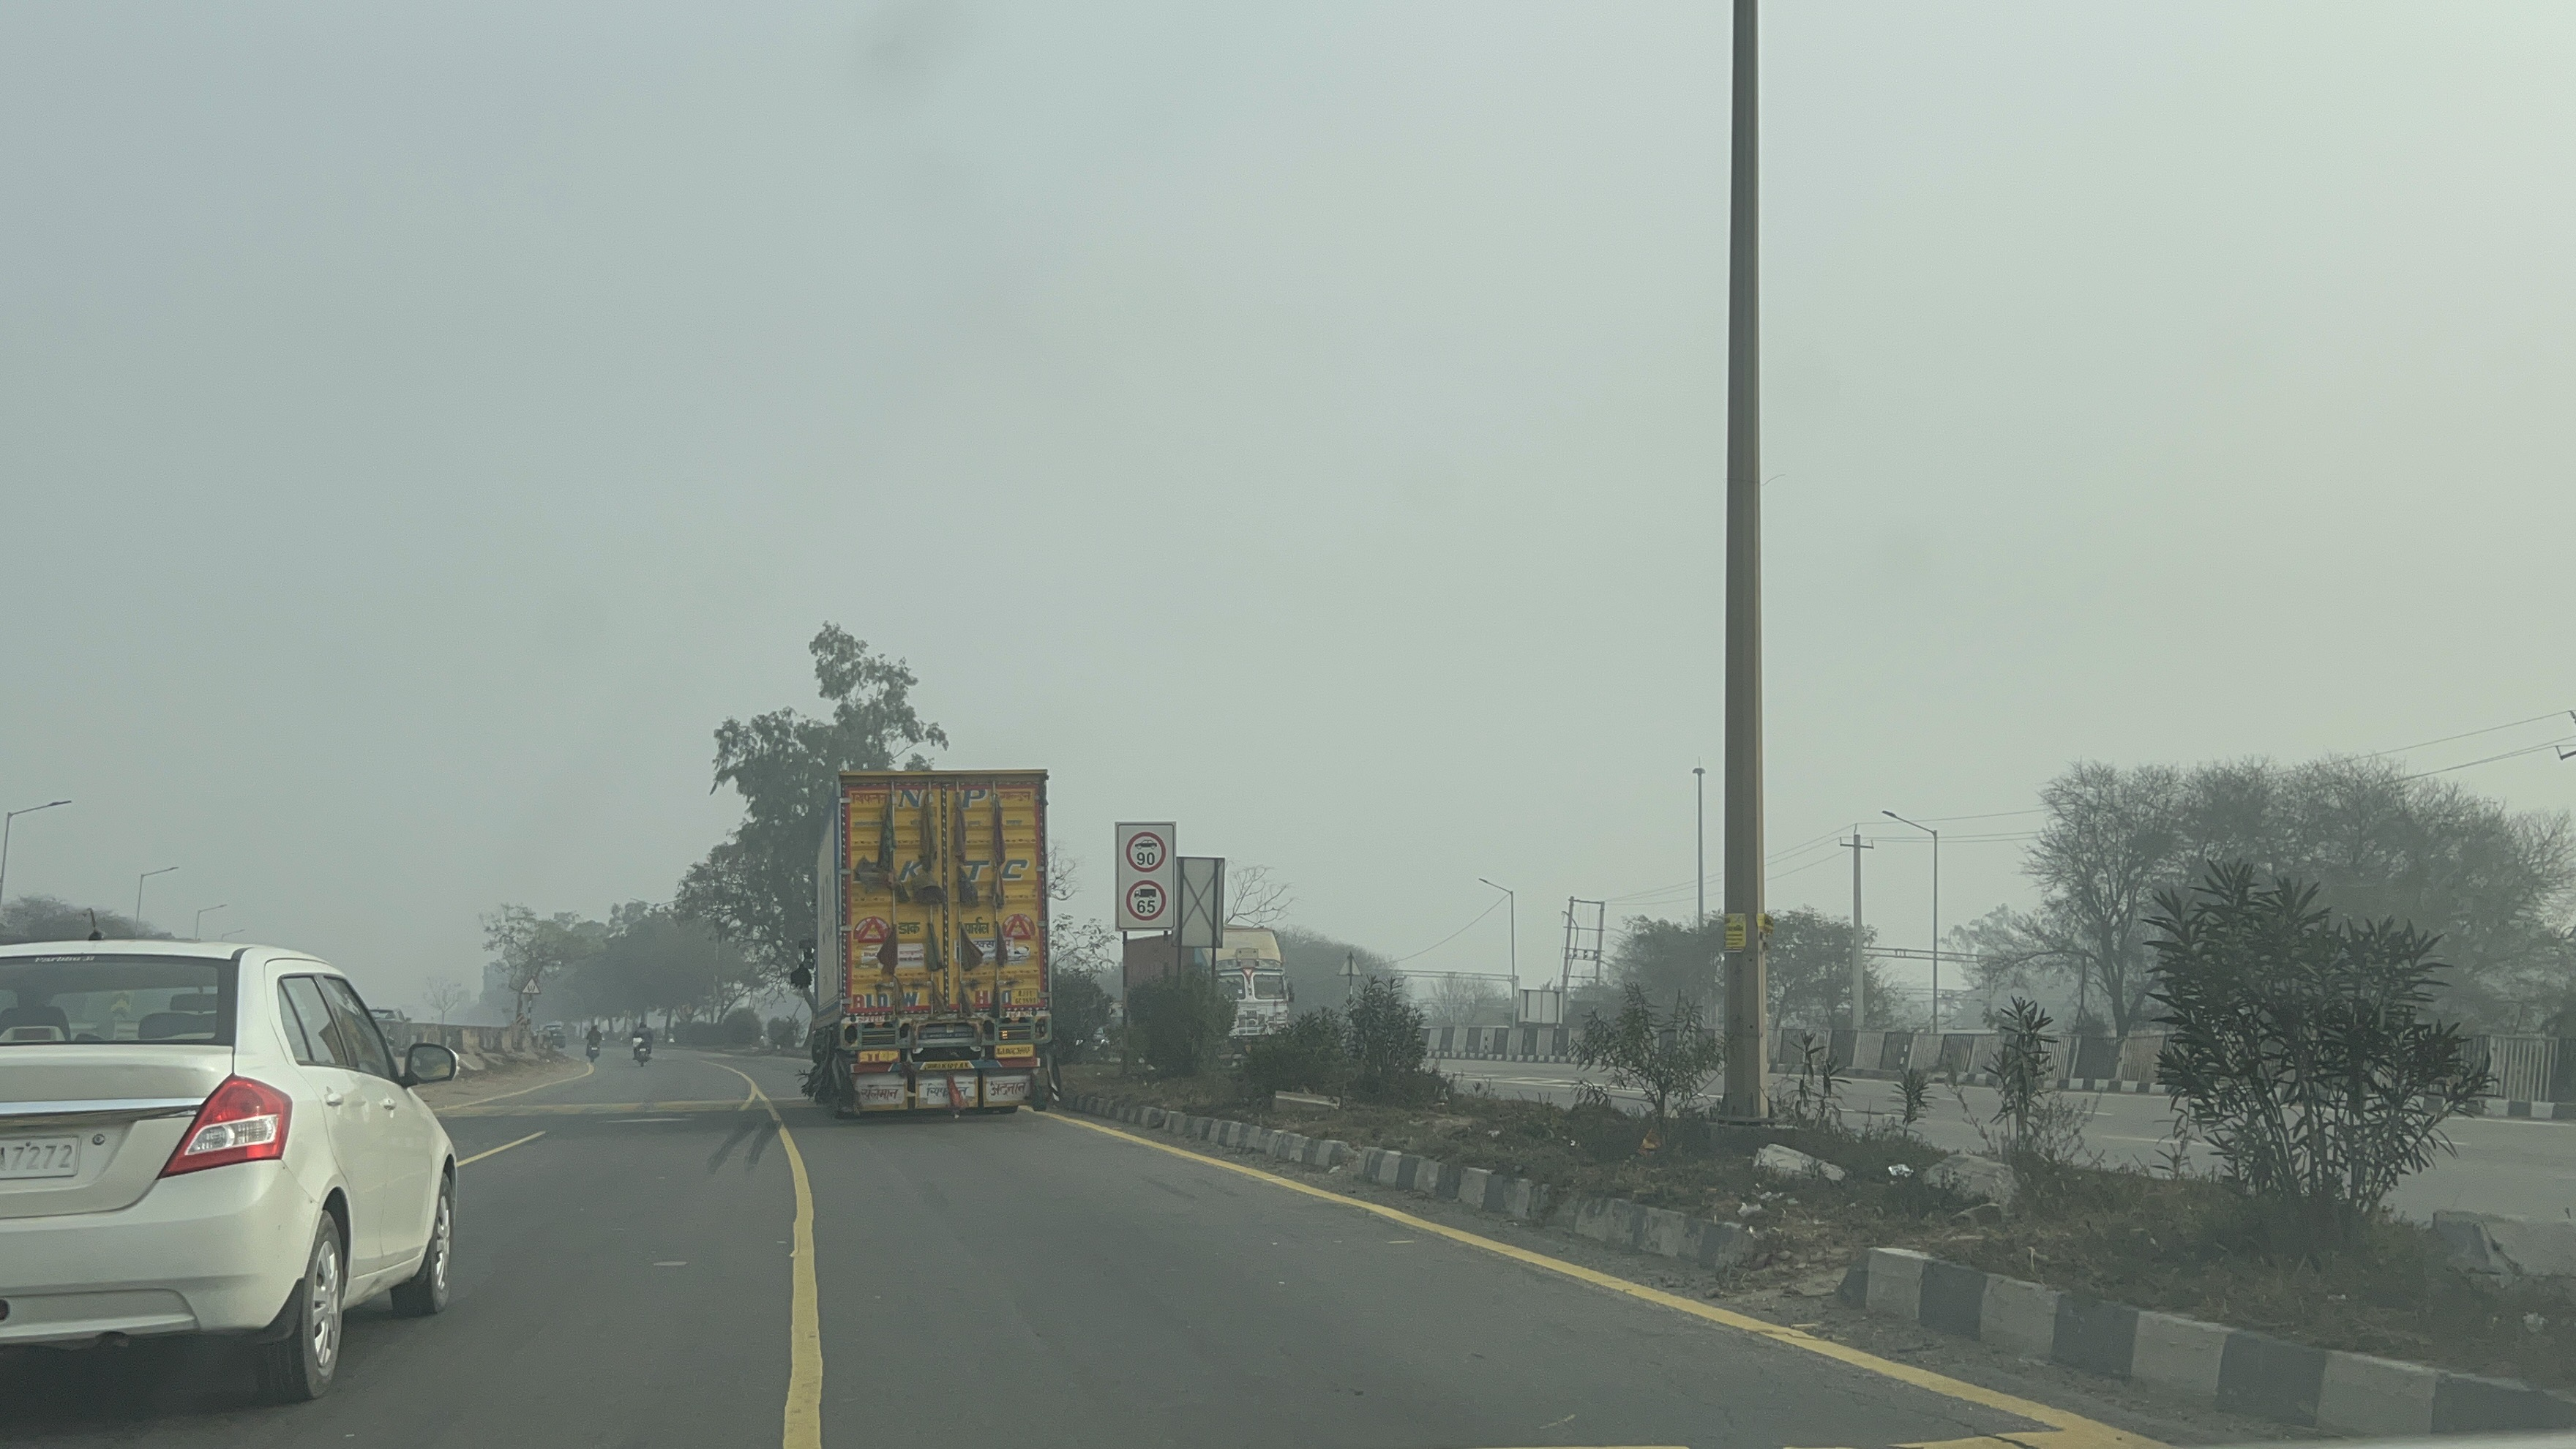Mandatory: (1118, 867, 1185, 938), (1118, 819, 1180, 883)
